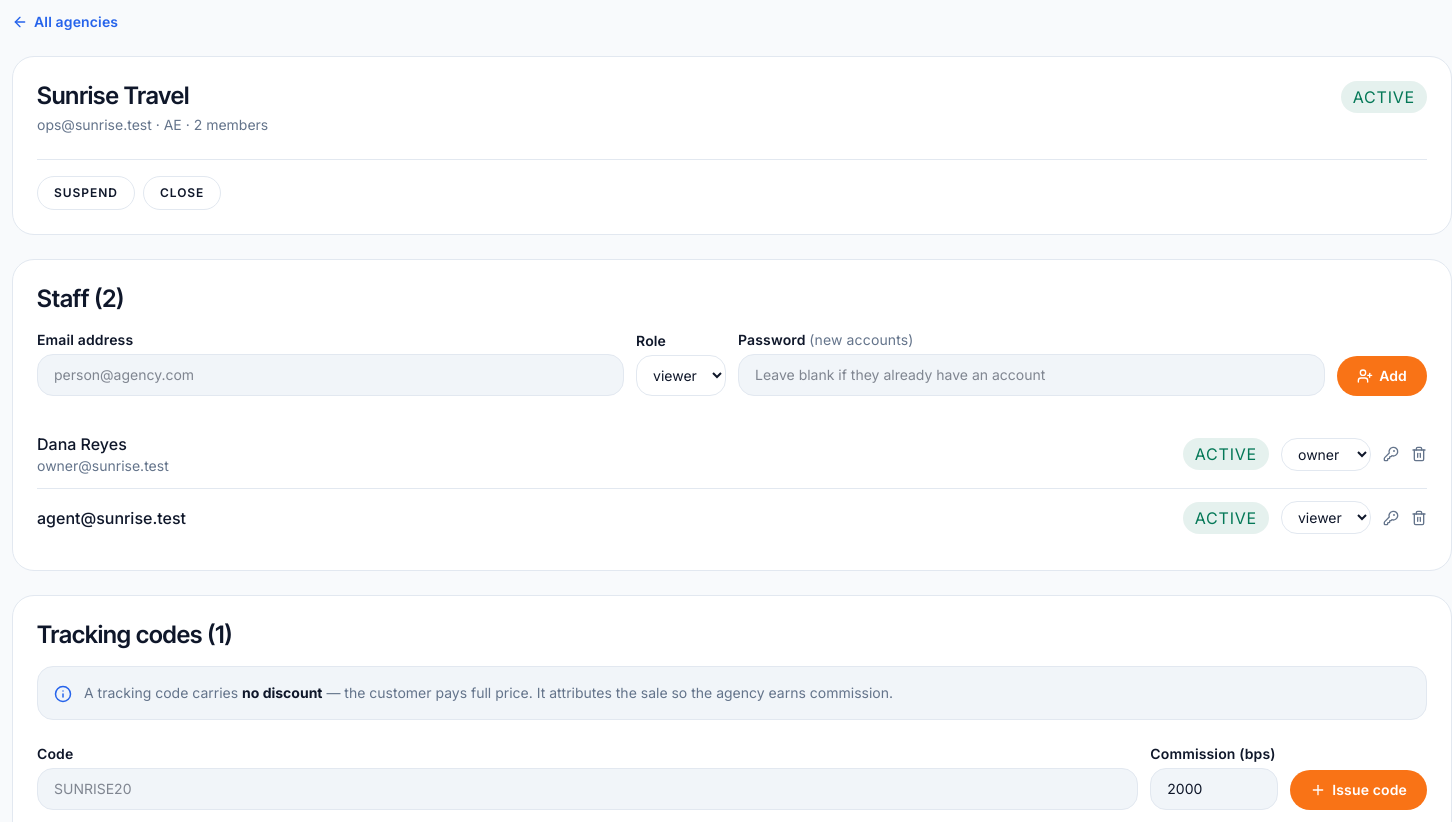
Test: setting a member's password › surfaces a rejected password against the form
Check: the 1st heading "Sunrise Travel" is shown, box 37,81 -> 189,110
Click the button named "set password for agent@sunrise.test".
click(1391, 518)  # box 1383,510 -> 1399,526
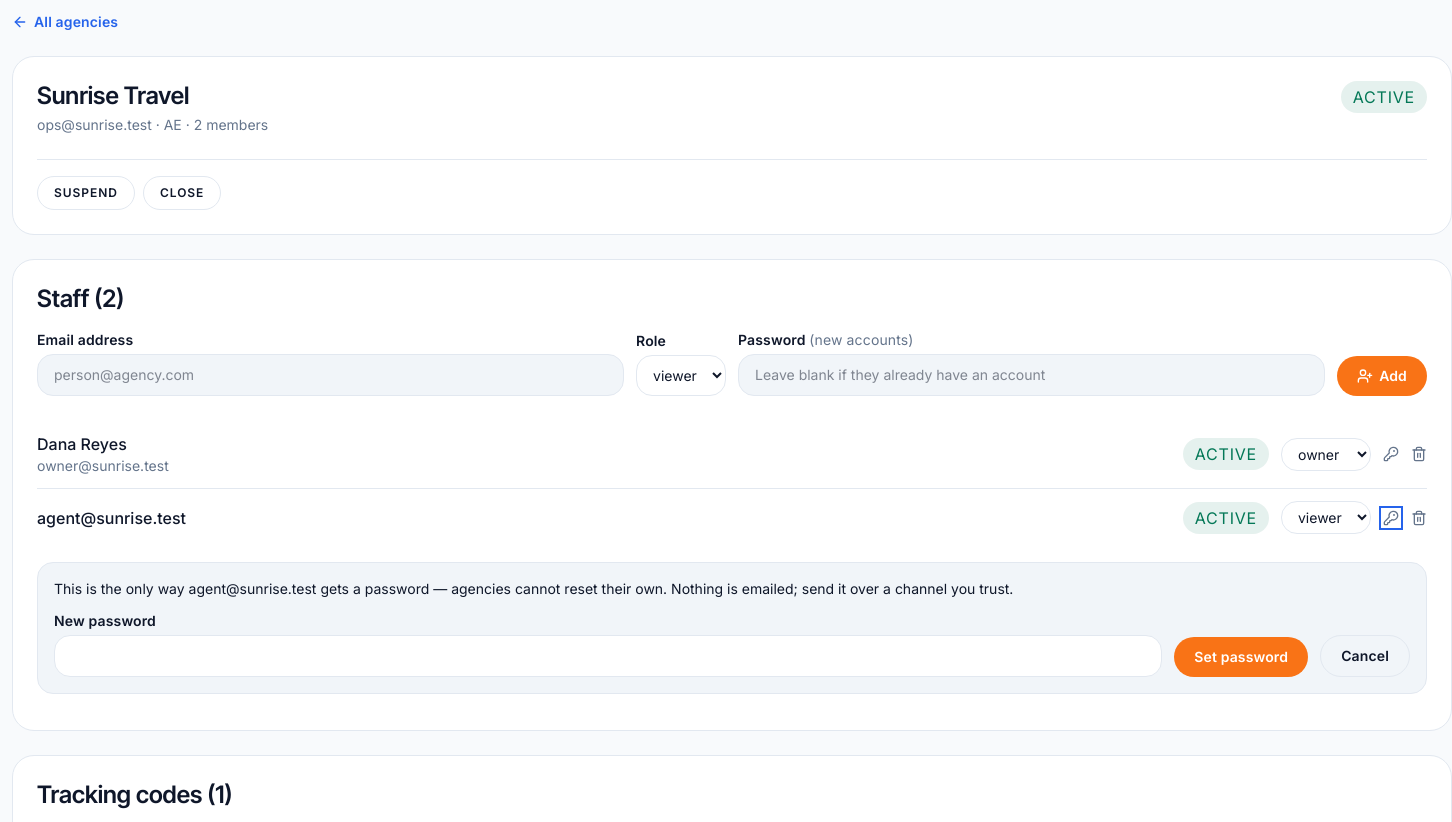
Type "password" into the field named "new password".
click(608, 656); type("password")  # box 54,635 -> 1162,677
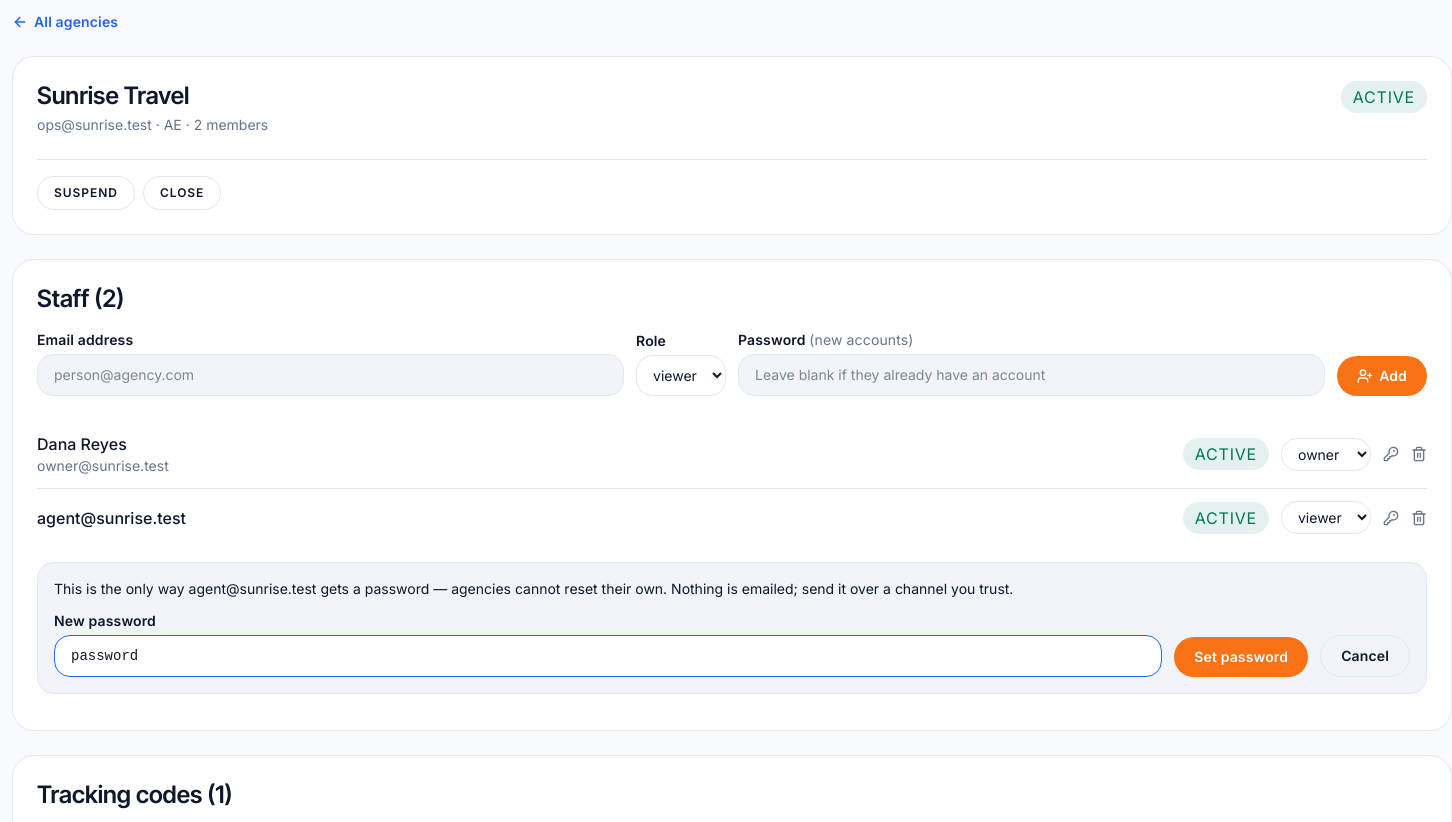
Click the 4th button named "set password".
click(1241, 657)  # box 1174,637 -> 1308,677
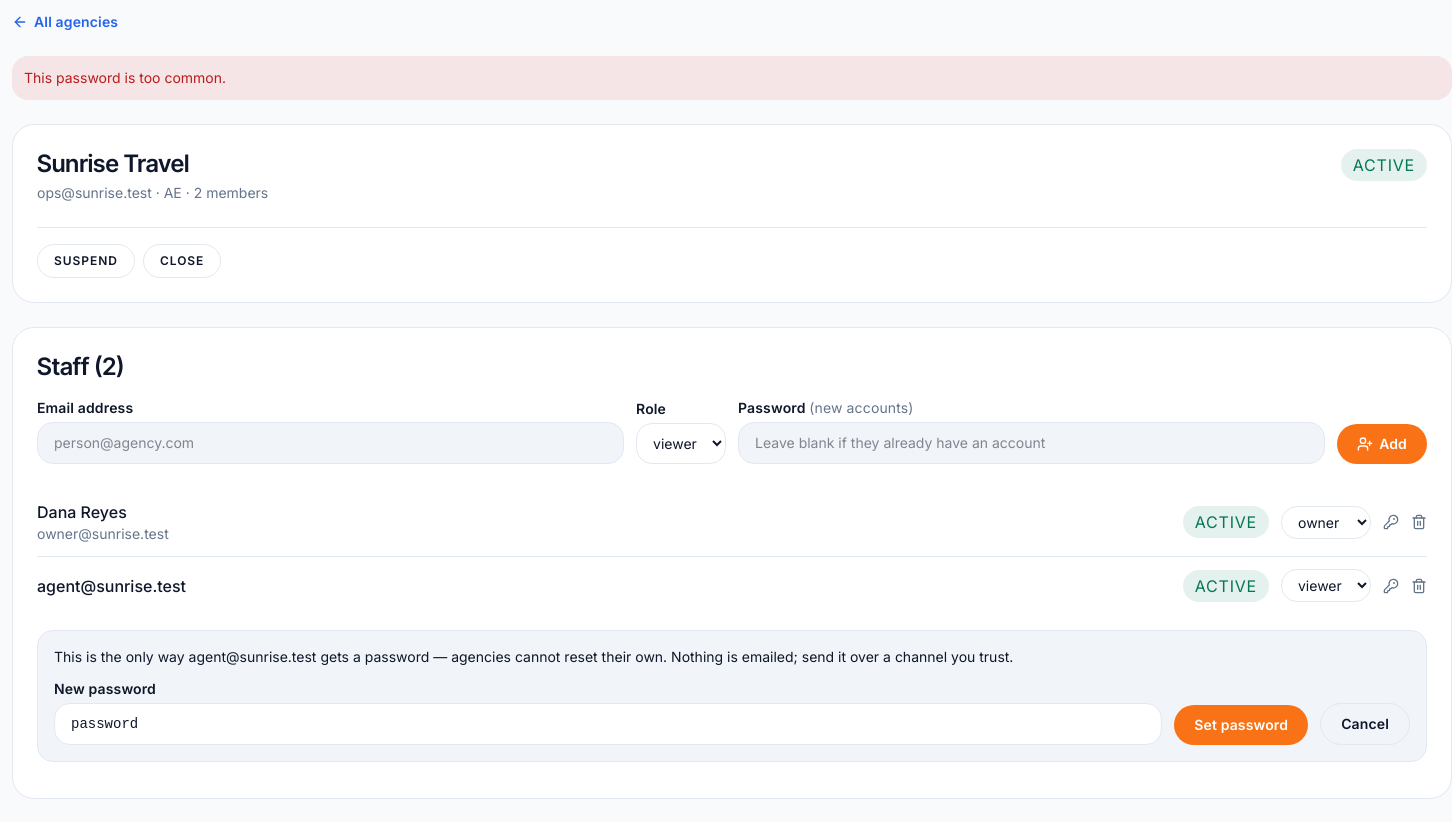
Check: the text "too common" is shown, box 24,69 -> 226,86
